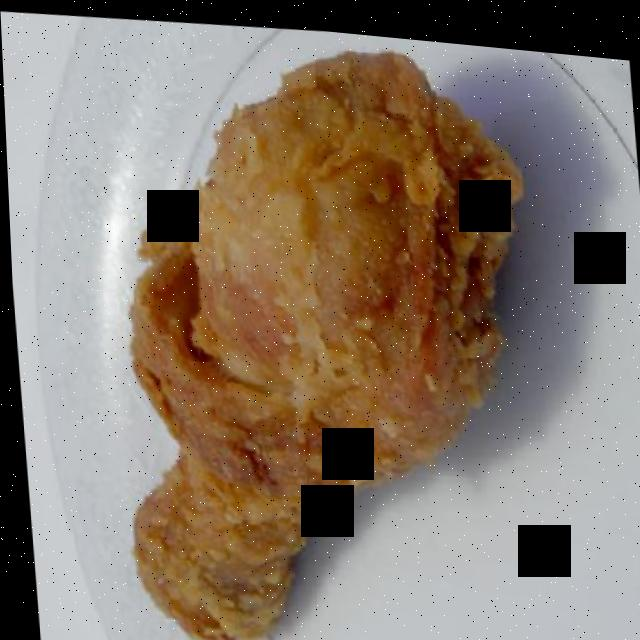Frango: (57, 4, 526, 640)
